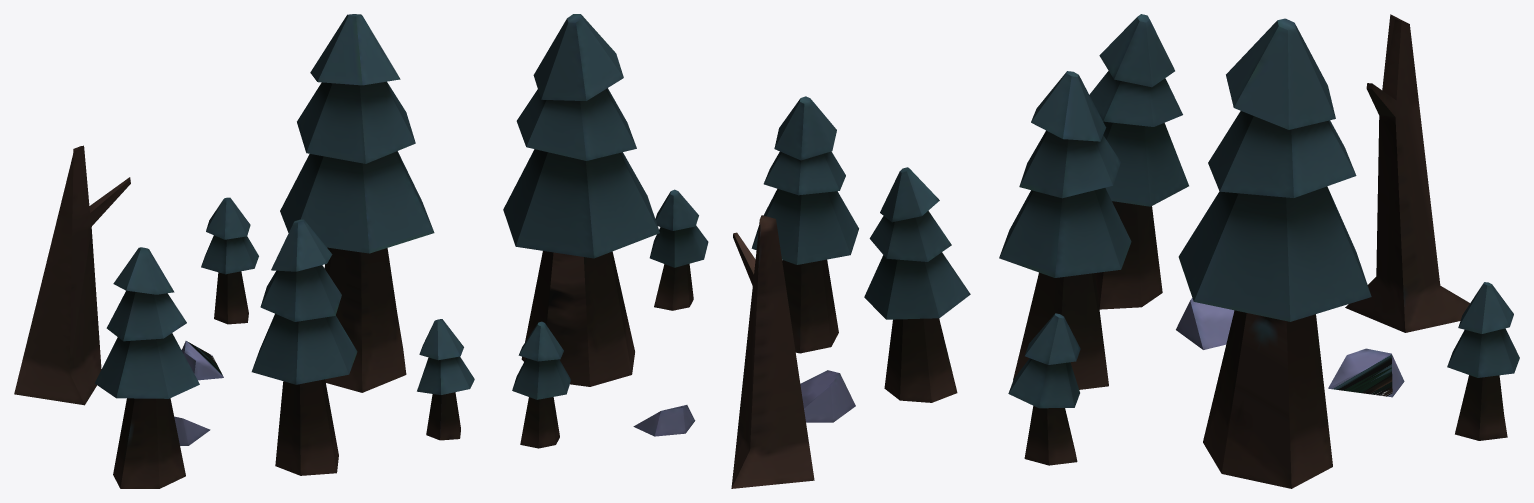
Rendered from tile_wood_1_lod1.fbx.
3 views of the same model, side by side, from view 1: azimuth 30°, elevation 25°; view 2: azimuth 150°, elevation 25°; view 3: azimuth 270°, elevation 25° (orthographic). The views are drawn at different scales.
Parts seen in each view (by area): view 1: wood_1_lod1; view 2: wood_1_lod1; view 3: wood_1_lod1.
Part boxes in pixels (x1,y1,x2,y2): wood_1_lod1: (14,14,474,488); wood_1_lod1: (503,14,970,488); wood_1_lod1: (999,14,1519,488).
Bounding box in the file's own units: 0.0527 × 0.0458 × 0.0495.
